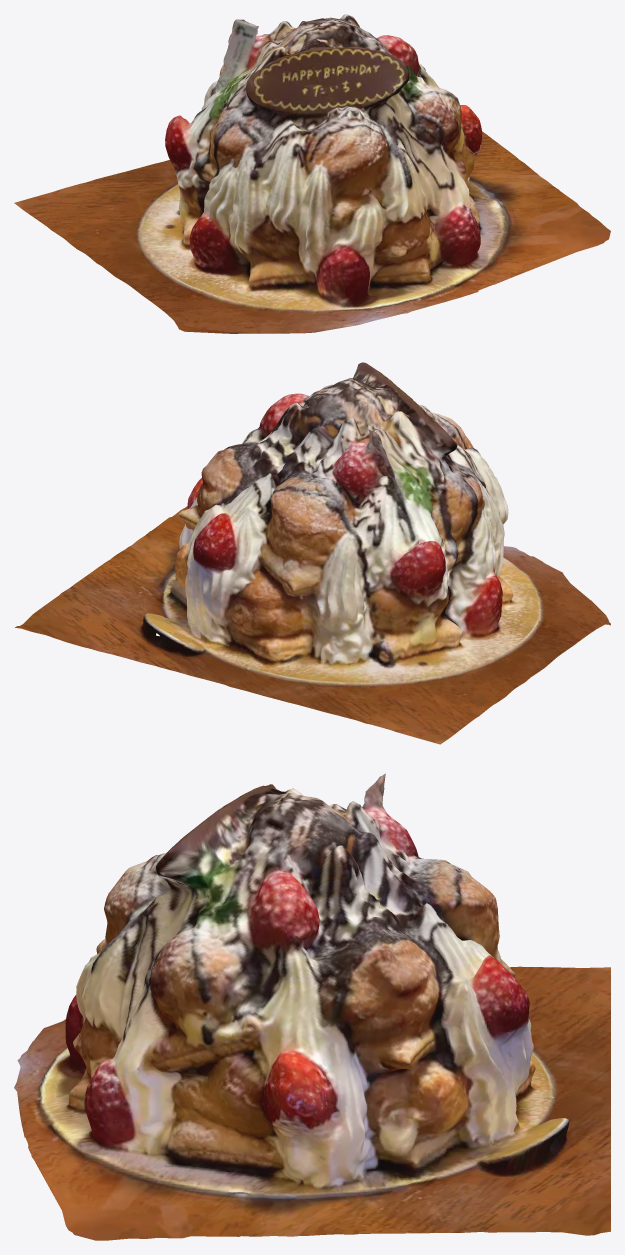
The model's file is b_cake.glb.
3 views of the same model, one above another, from view 1: azimuth 30°, elevation 25°; view 2: azimuth 150°, elevation 25°; view 3: azimuth 270°, elevation 25° (orthographic). The views are drawn at different scales.
Visible parts, largest first — view 1: Object_2; view 2: Object_2; view 3: Object_2.
Boxes of the visible parts, x1,y1,x2,y2 form: Object_2: (14,14,610,333); Object_2: (15,362,610,744); Object_2: (14,773,610,1240).
Size of the model in its own units: 0.2328 by 0.1205 by 0.2084.
1 material, 1 textured.
